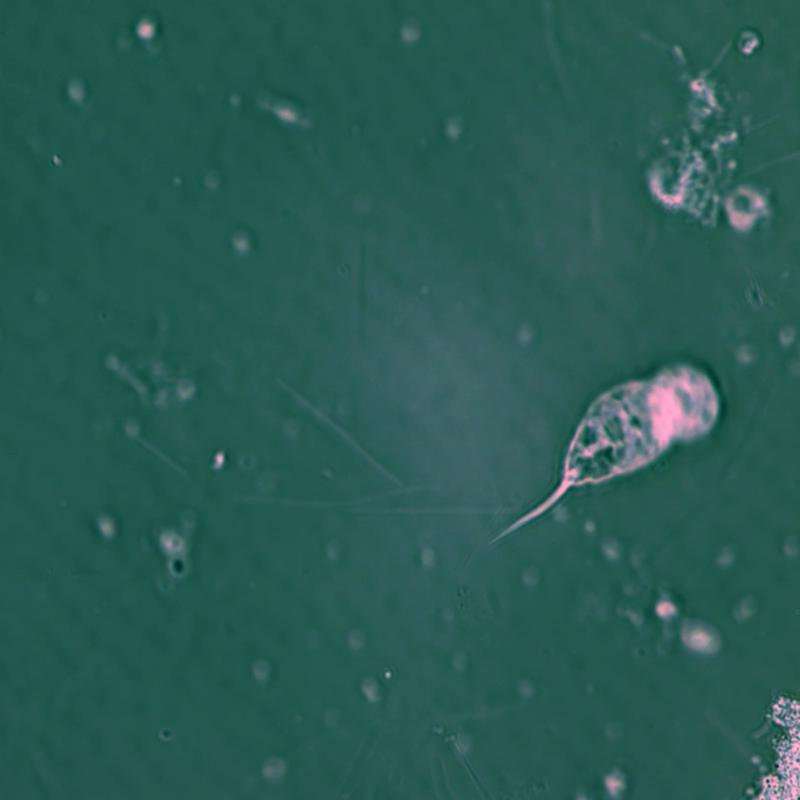depth:20: (455, 328, 757, 565)
